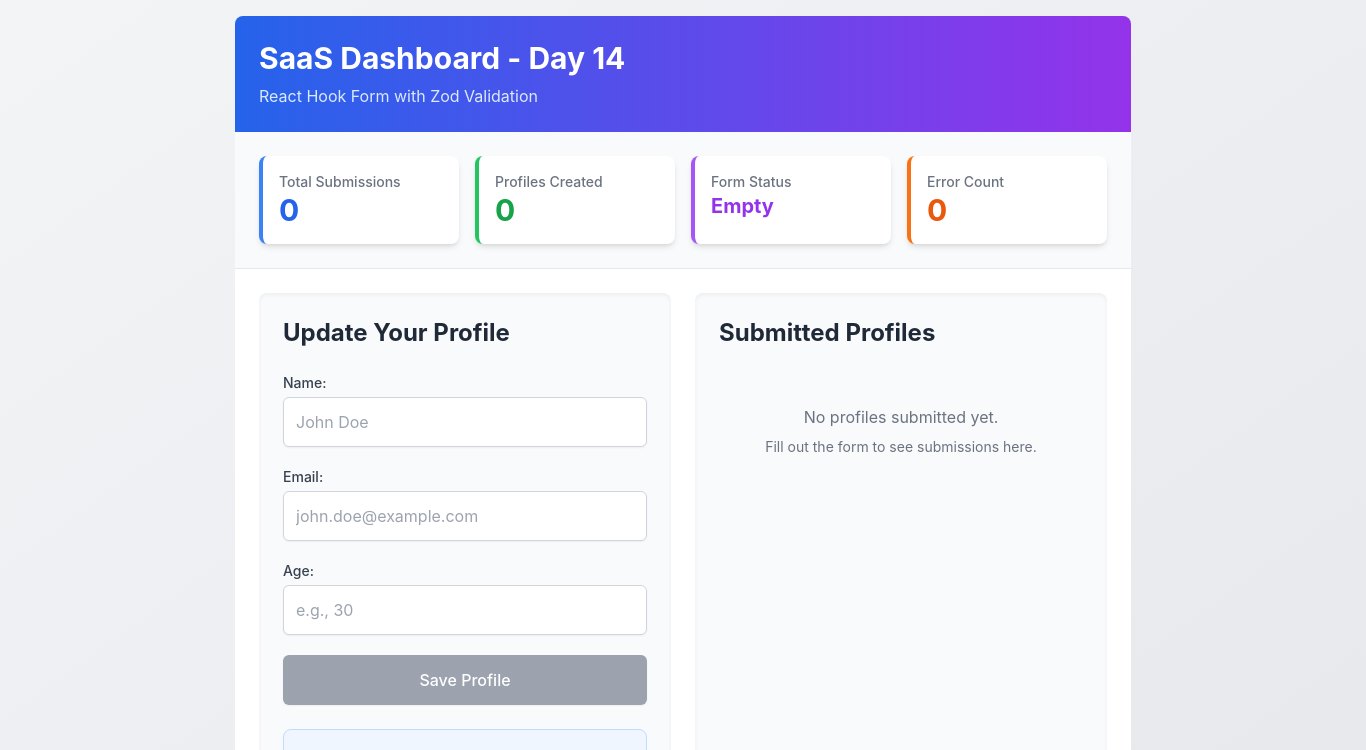
Scenario: SaaS Dashboard - Day 14 › shows validation errors for invalid input
Type "ab" into the field labelled "Name:". click: [465, 422]
box: x1=283 y1=397 x2=647 y2=447
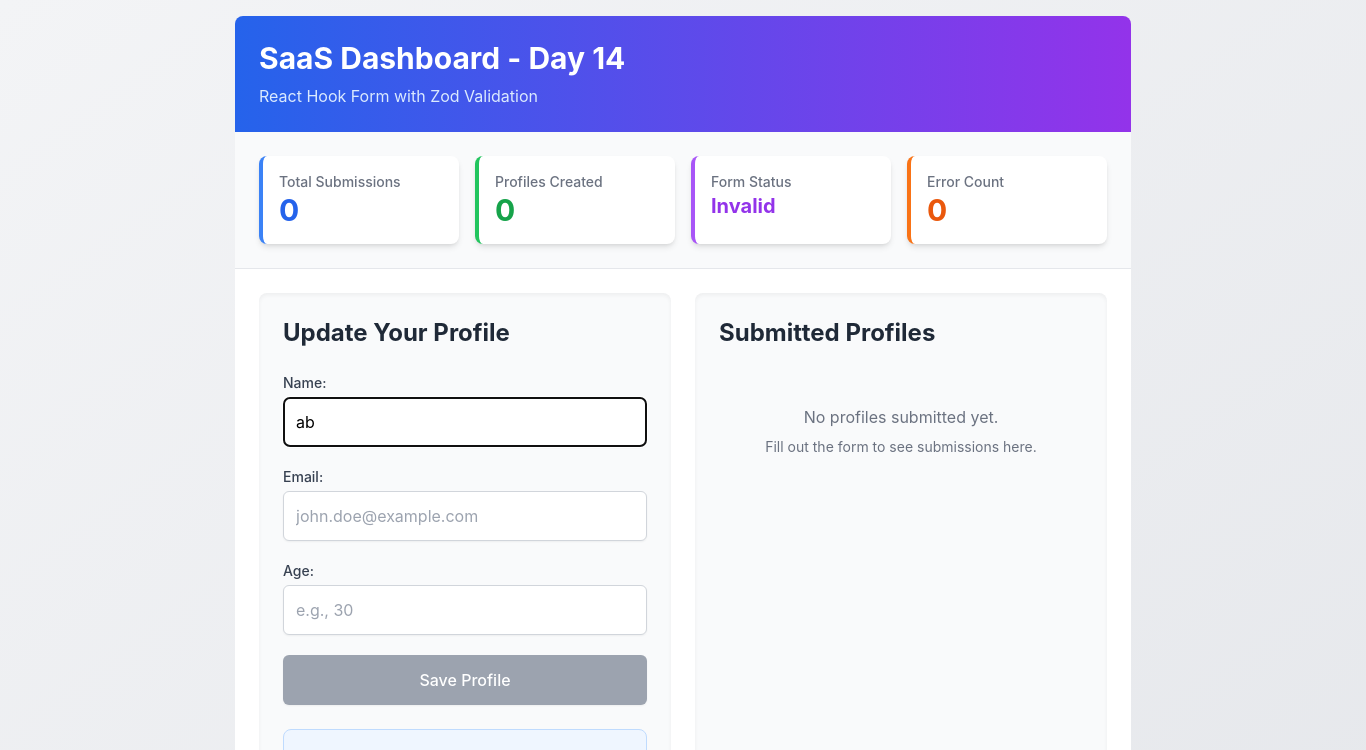
Press Tab
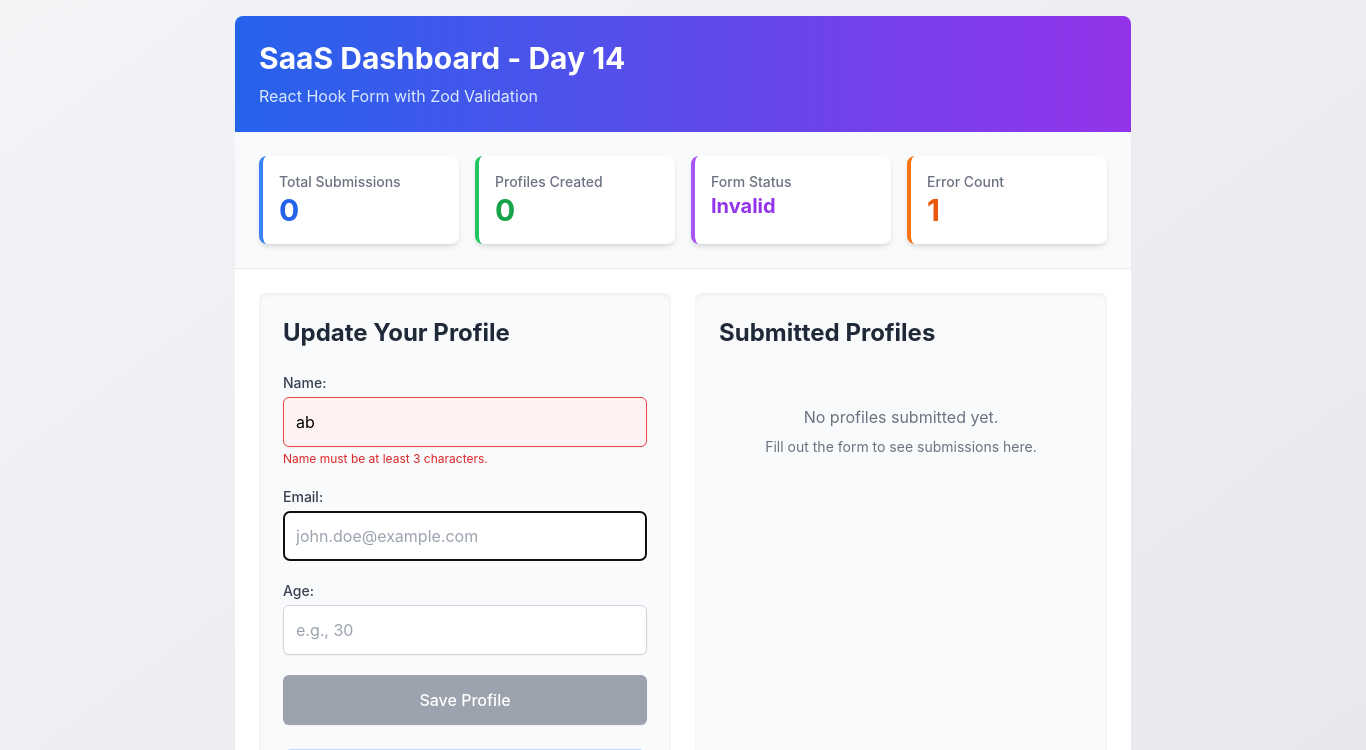
expect the text with test id "name-error" shows "Name must be at least 3 characters": met, box x1=283 y1=451 x2=488 y2=466
